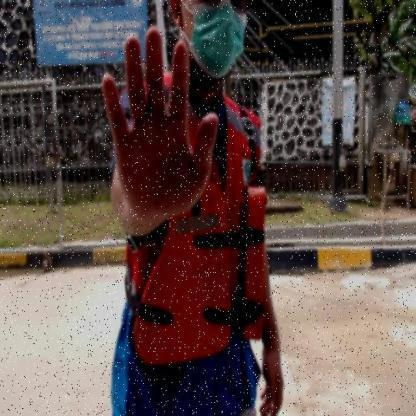mask: (184, 1, 248, 79)
vest: (129, 179, 272, 366)
